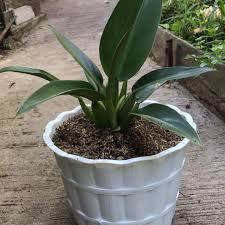jasmine: (57, 8, 219, 223)
